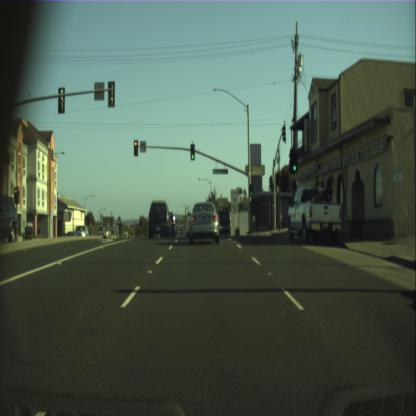Green: (290, 152, 298, 174), (190, 143, 194, 160), (249, 184, 253, 196)
RedLeft: (133, 139, 138, 156), (14, 186, 18, 204)
